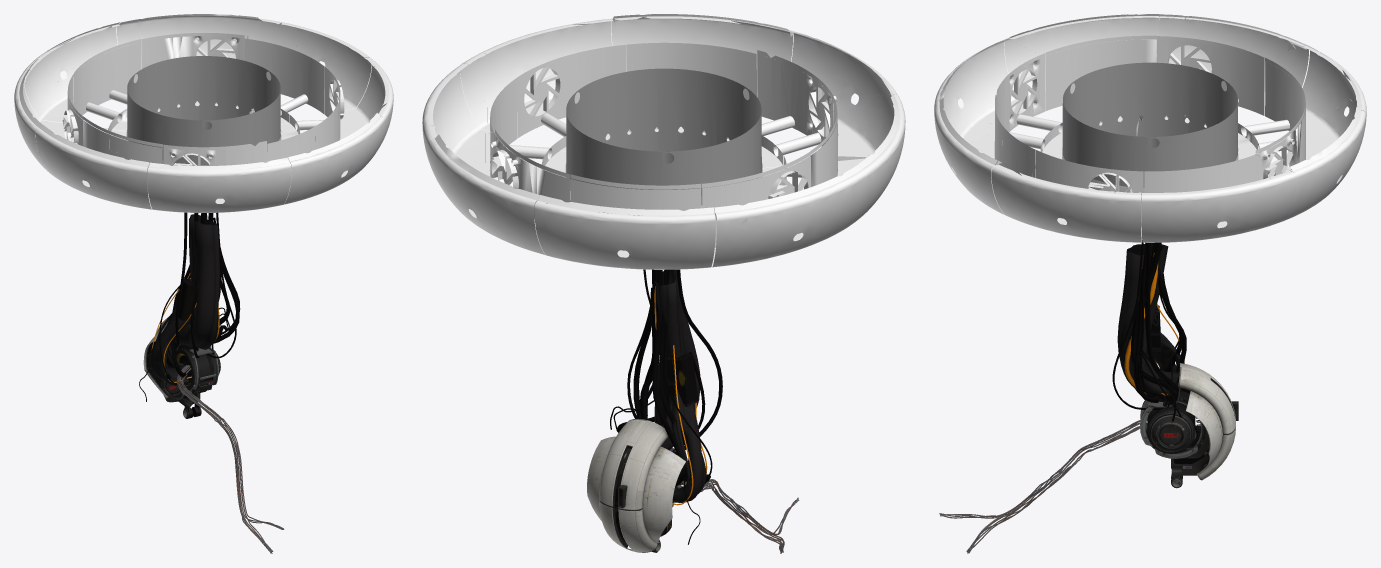
File: cable.glb
The picture shows the model from 3 angles, left to right: view 1: azimuth 30°, elevation 25°; view 2: azimuth 150°, elevation 25°; view 3: azimuth 270°, elevation 25°; orthographic projection. The views are drawn at different scales.
Visible parts, largest first — view 1: curves.003; view 2: curves.003; view 3: curves.003.
Boxes of the visible parts, x1,y1,x2,y2 form: curves.003: [14, 14, 393, 553]; curves.003: [422, 14, 905, 553]; curves.003: [934, 14, 1366, 553].
Bounding box in the file's own units: 5.19 × 6.1 × 5.19.
Materials: 6 (4 with a texture image).
